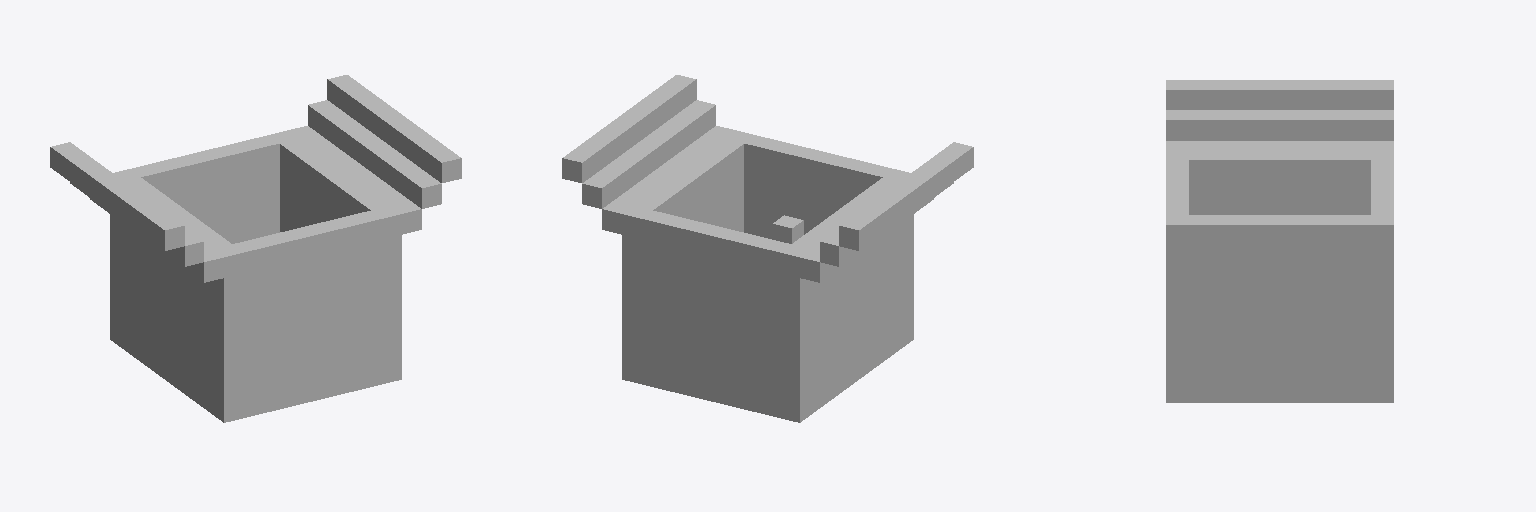
Rendered from Bunker - Free Sample-49-Cardboard_Dark_Brown_Open-5.obj.
3 renders of one model, left to right at view 1: azimuth 30°, elevation 25°; view 2: azimuth 150°, elevation 25°; view 3: azimuth 270°, elevation 25°, orthographic.
Parts seen in each view (by area): view 1: Cardboard_Dark_Brown_Open-5; view 2: Cardboard_Dark_Brown_Open-5; view 3: Cardboard_Dark_Brown_Open-5.
Part boxes in pixels (x1,y1,x2,y2): Cardboard_Dark_Brown_Open-5: (50,75,461,422); Cardboard_Dark_Brown_Open-5: (562,75,973,422); Cardboard_Dark_Brown_Open-5: (1166,80,1393,402).
Size of the model in its own units: 0.3 by 0.2 by 0.2.